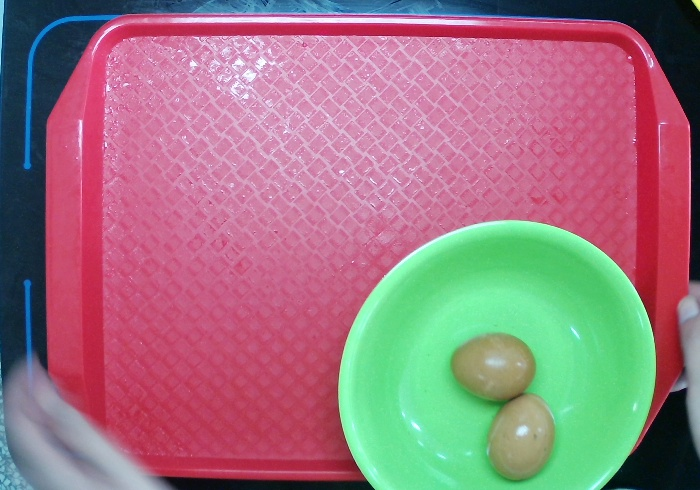YKMZ-Lv_Se_Tang_Wan: (332, 215, 661, 490)
